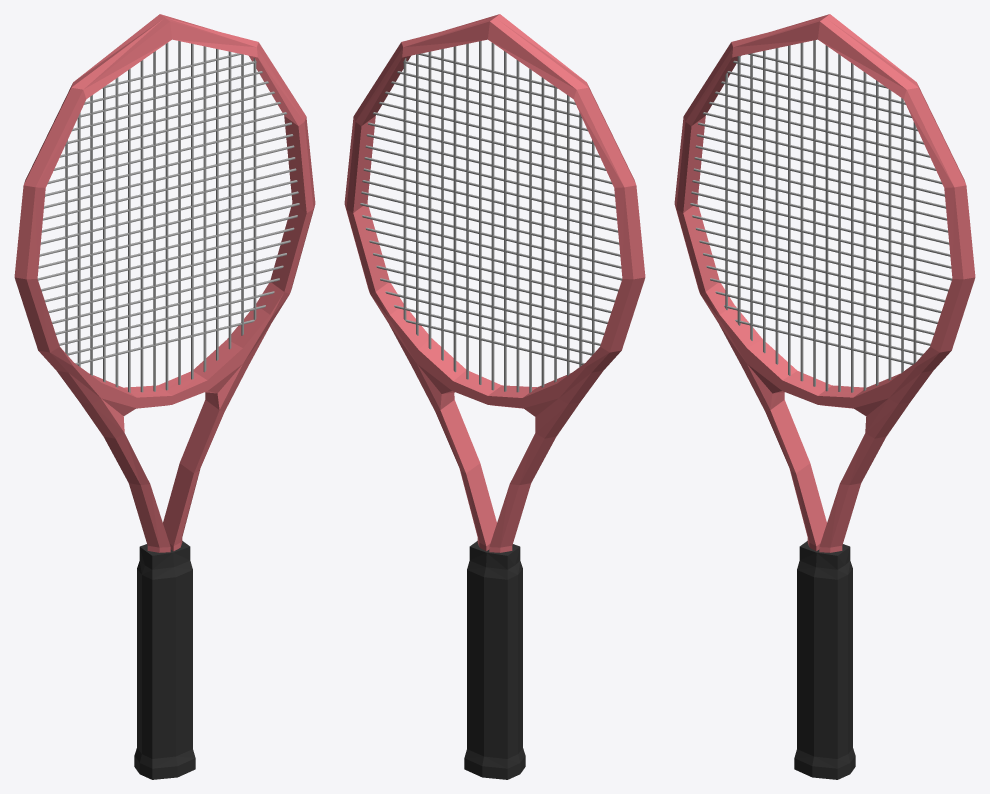
Rendered from Tennis_racket.fbx.
3 renders of one model, left to right at view 1: azimuth 30°, elevation 25°; view 2: azimuth 150°, elevation 25°; view 3: azimuth 330°, elevation 25°, orthographic.
Visible parts, largest first — view 1: Tennis_racket; view 2: Tennis_racket; view 3: Tennis_racket.
Part boxes in pixels (x1,y1,x2,y2): Tennis_racket: [14, 14, 315, 779]; Tennis_racket: [344, 14, 645, 779]; Tennis_racket: [674, 14, 975, 779].
Size of the model in its own units: 914 by 2182 by 134.
